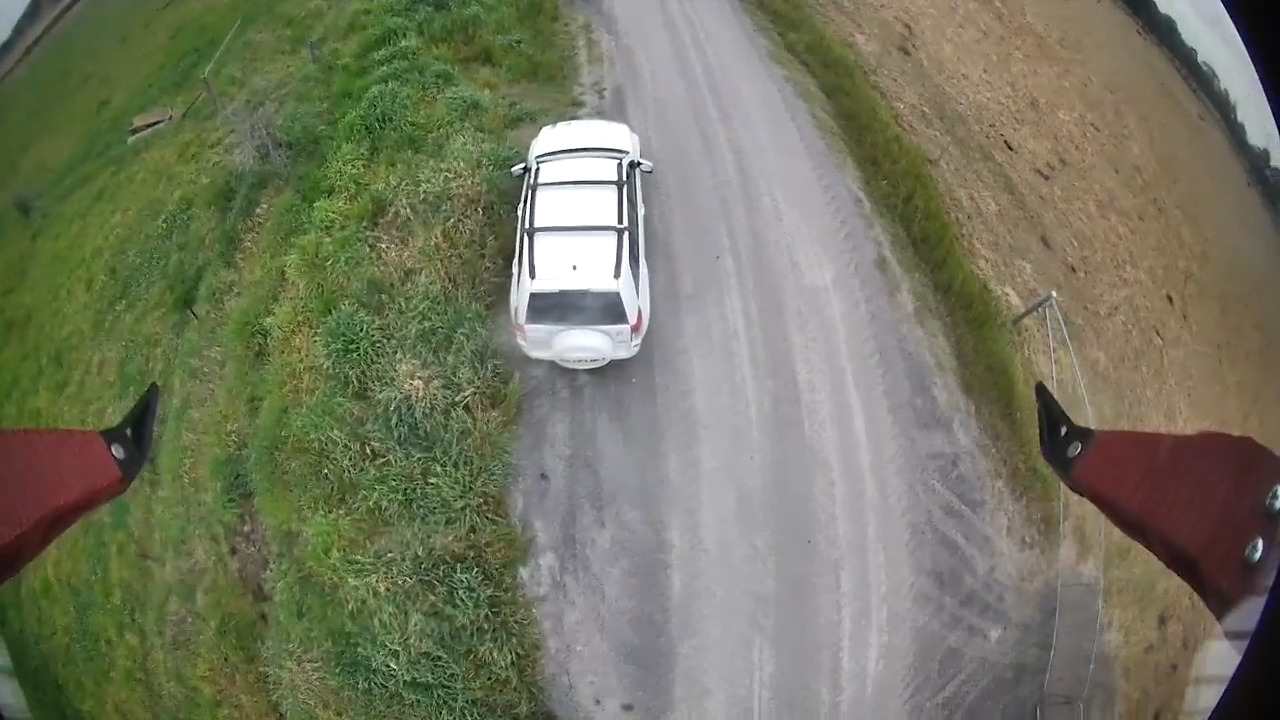Car: (508, 119, 652, 369)
